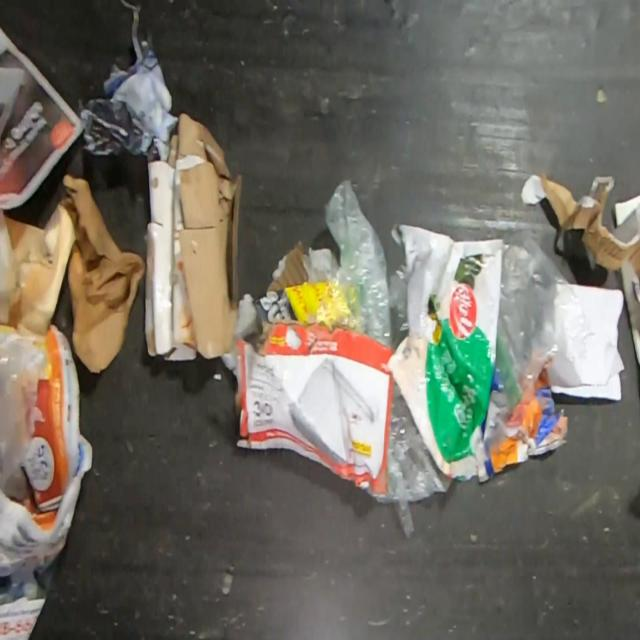cardboard: (232, 321, 394, 497), (141, 111, 241, 361), (518, 173, 640, 283), (252, 239, 340, 323)
soft_plastic: (378, 221, 504, 481), (298, 177, 408, 352), (494, 223, 595, 409), (375, 380, 453, 540), (0, 325, 56, 500)
